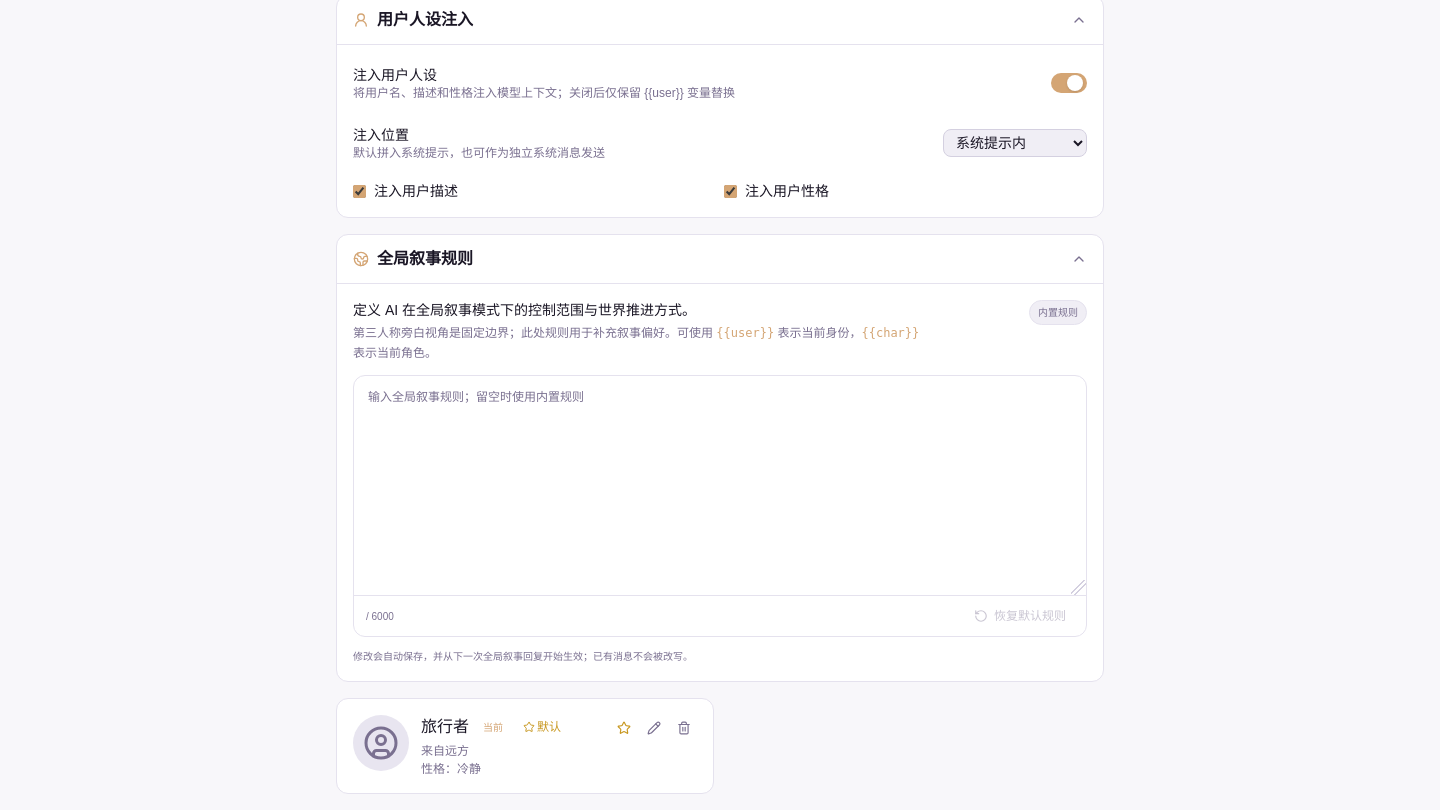
Test case: PersonasPage › UEX-P1-30：编辑当前激活身份保存后，settings 快照经唯一写入口同步
(page scrolled)
Click the text "旅行者" at (445, 727), box [421, 715, 469, 739]
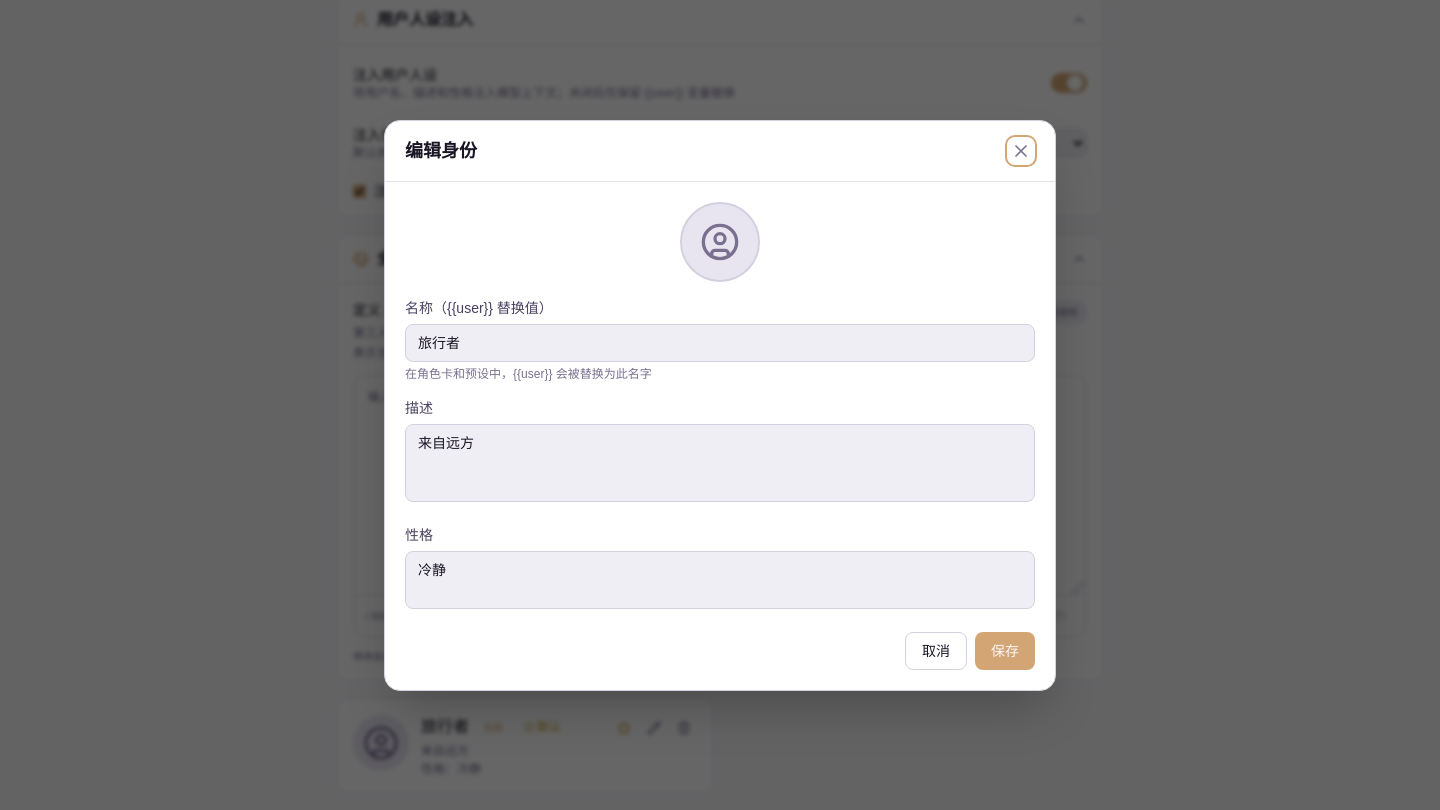
Replace the text in the field with placeholder "你的名字" with "新旅行者" at (720, 342), box [405, 324, 1035, 362]
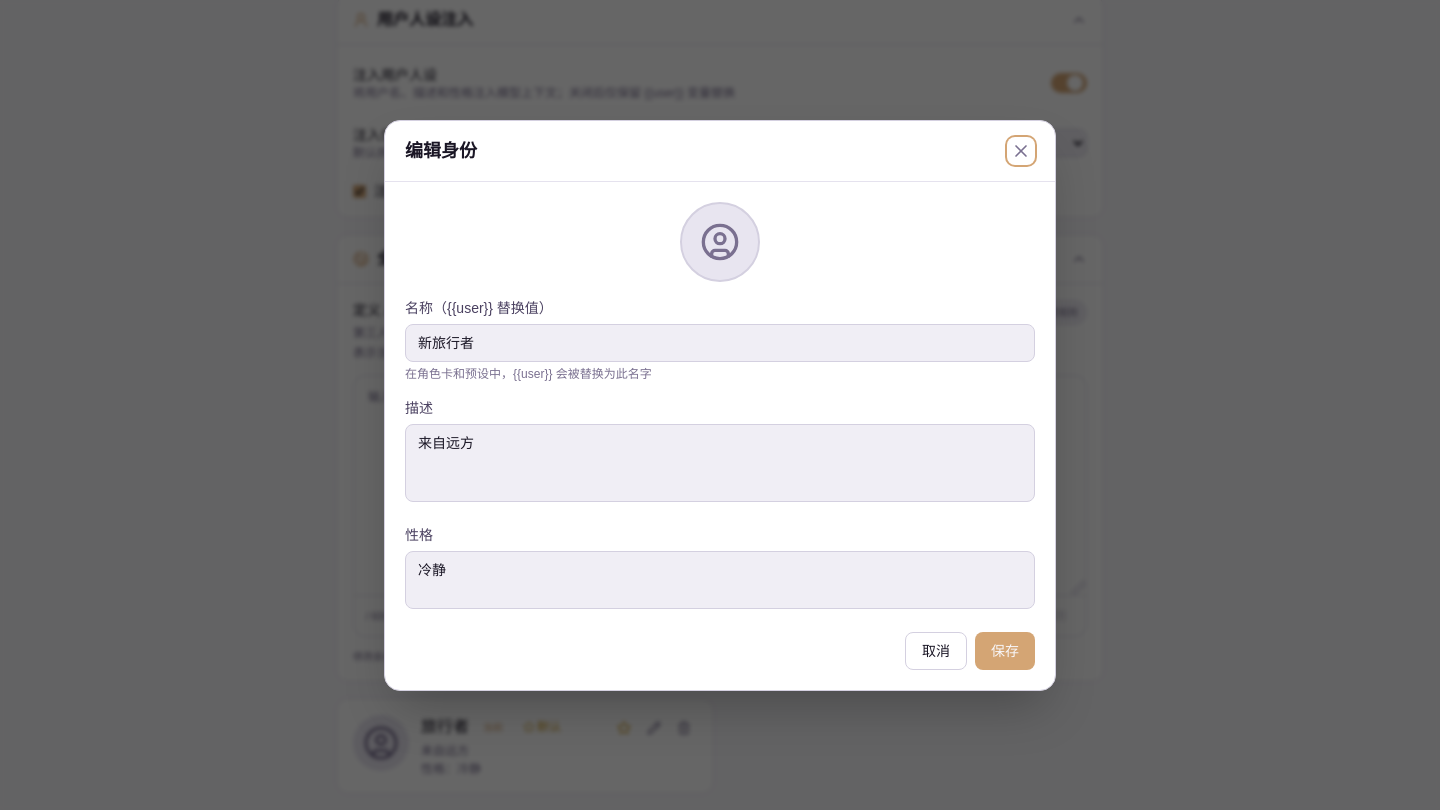
Click the button "保存" at (1005, 650), box [975, 632, 1035, 670]
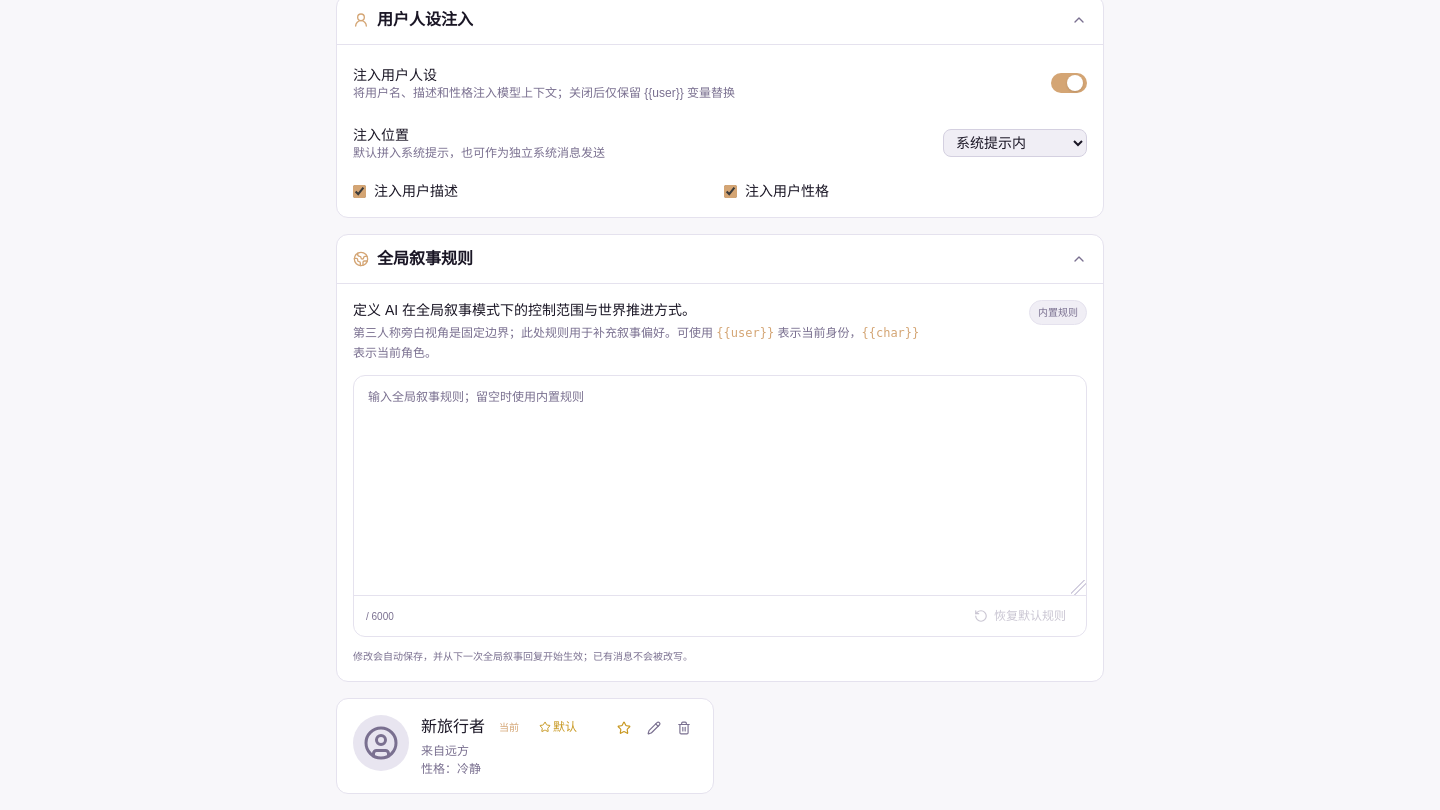
Expected: the text "来自远方" is shown, [421, 744, 469, 758]
Expected: the text "旅行者" reads "新旅行者", [421, 718, 485, 735]
